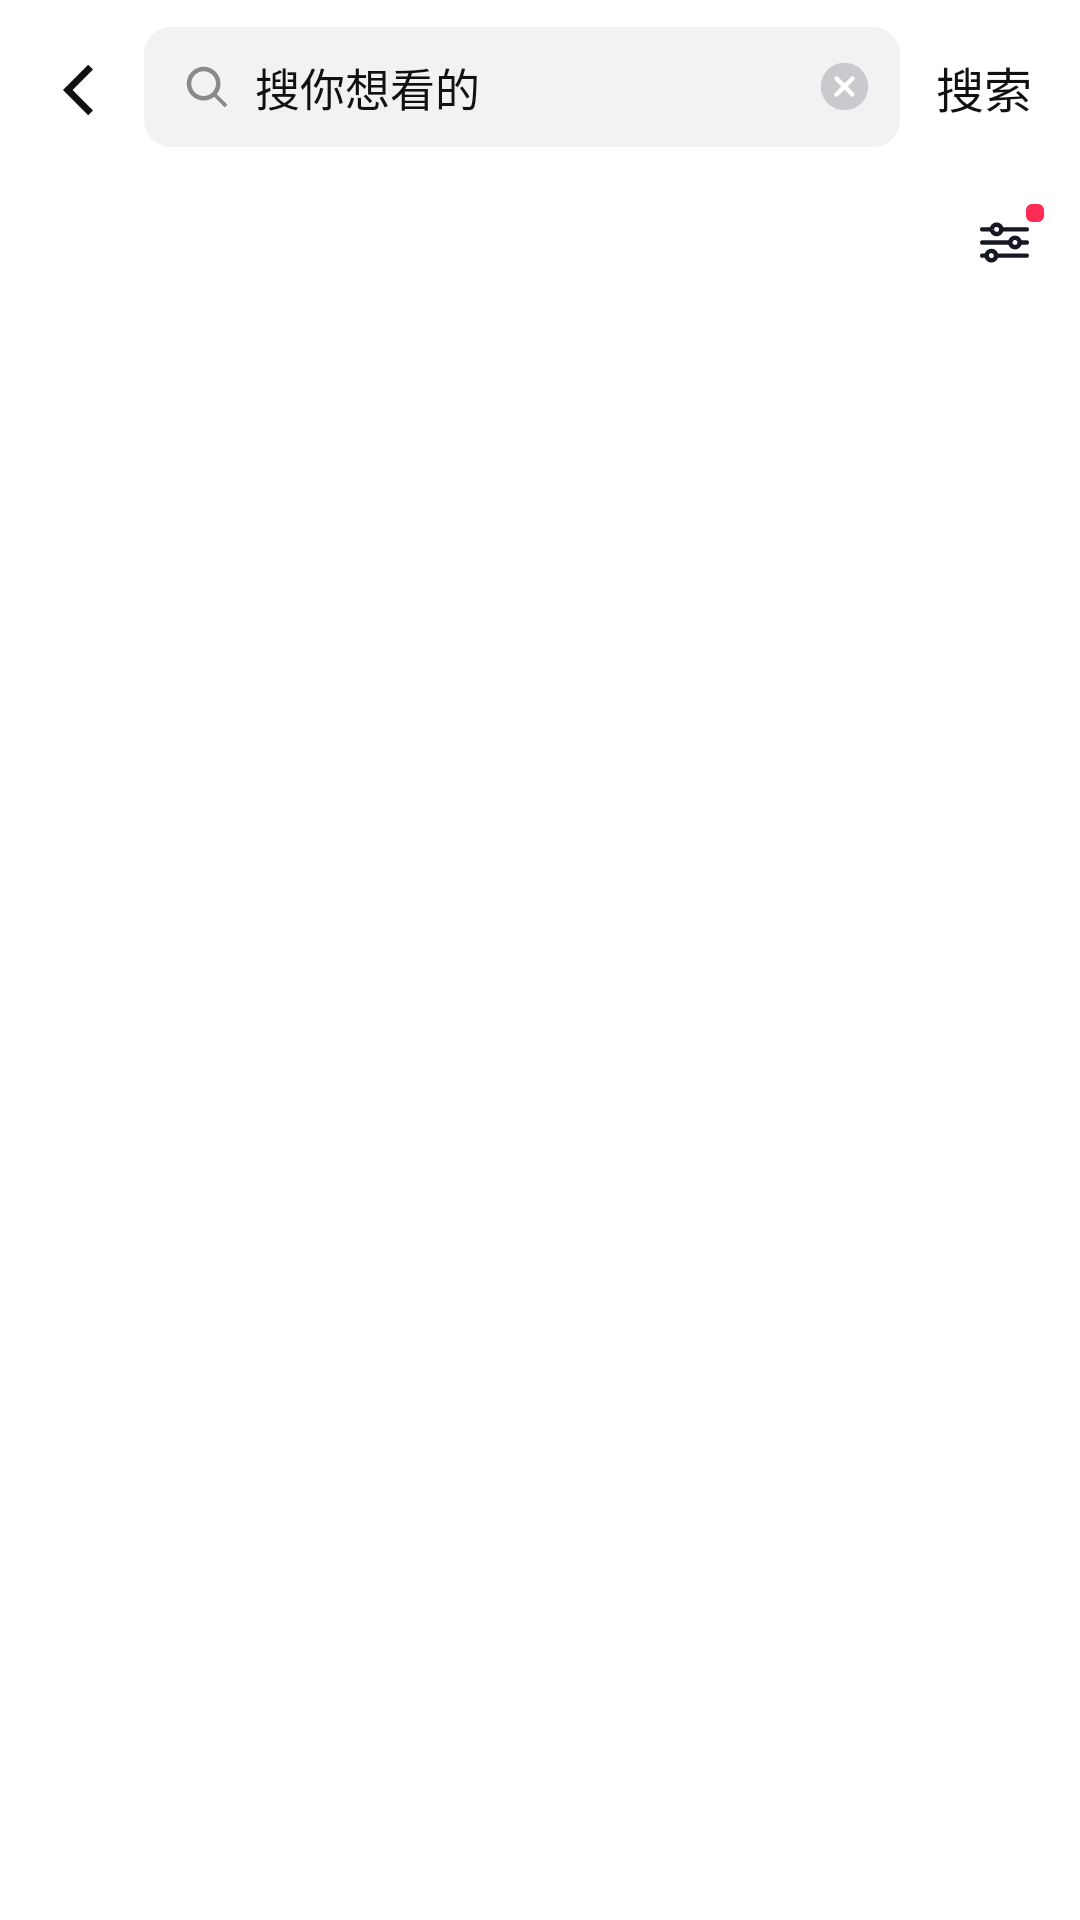

Named icons in this screenshot (1080w x 1920h) and their centers, (x,y):
search: (206,86)
筛选: (1004,242)
返回: (78,90)
